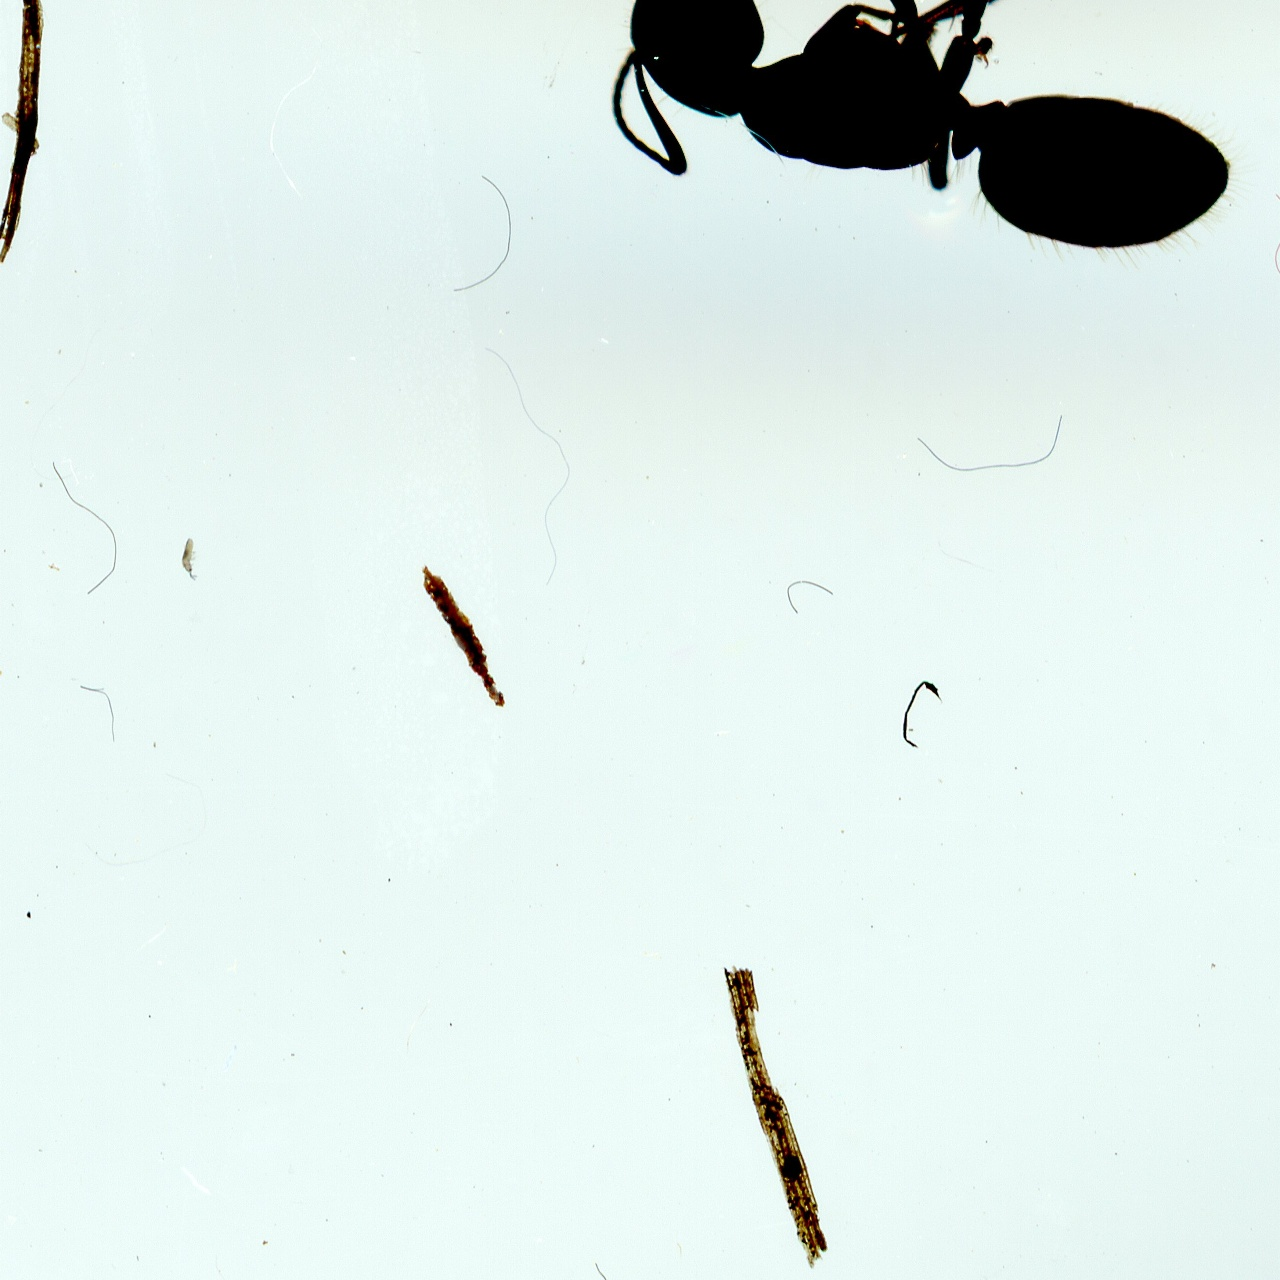arthropod: (600, 0, 1262, 272), (178, 536, 206, 585)
